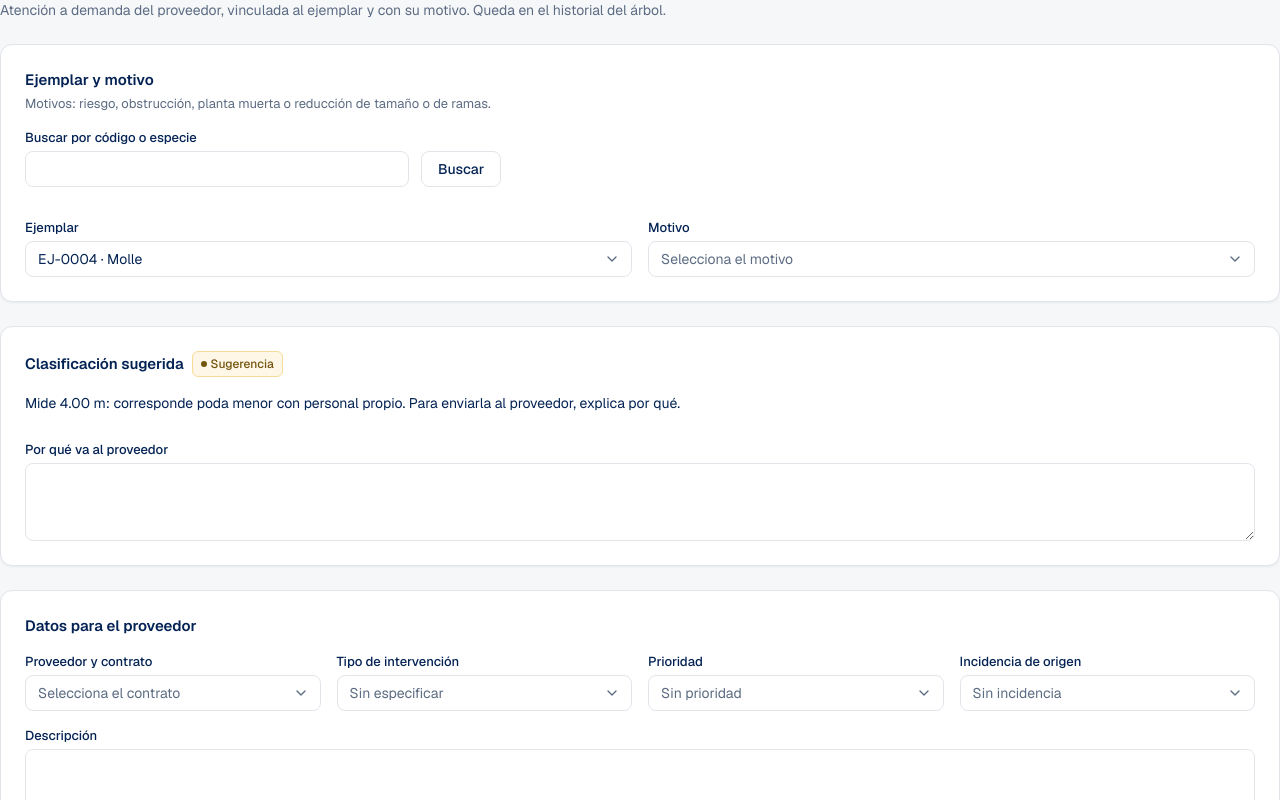
Test case: SolicitarPodaAlturaPage › por debajo de 5 m pide la justificación antes de crear la atención
Expected: the text "corresponde poda menor con personal propio" is shown, [25, 394, 680, 412]
Select "Reducción de tamaño o de ramas" in the dropdown with id "motivo-altura": (952, 259) [648, 241, 1255, 277]
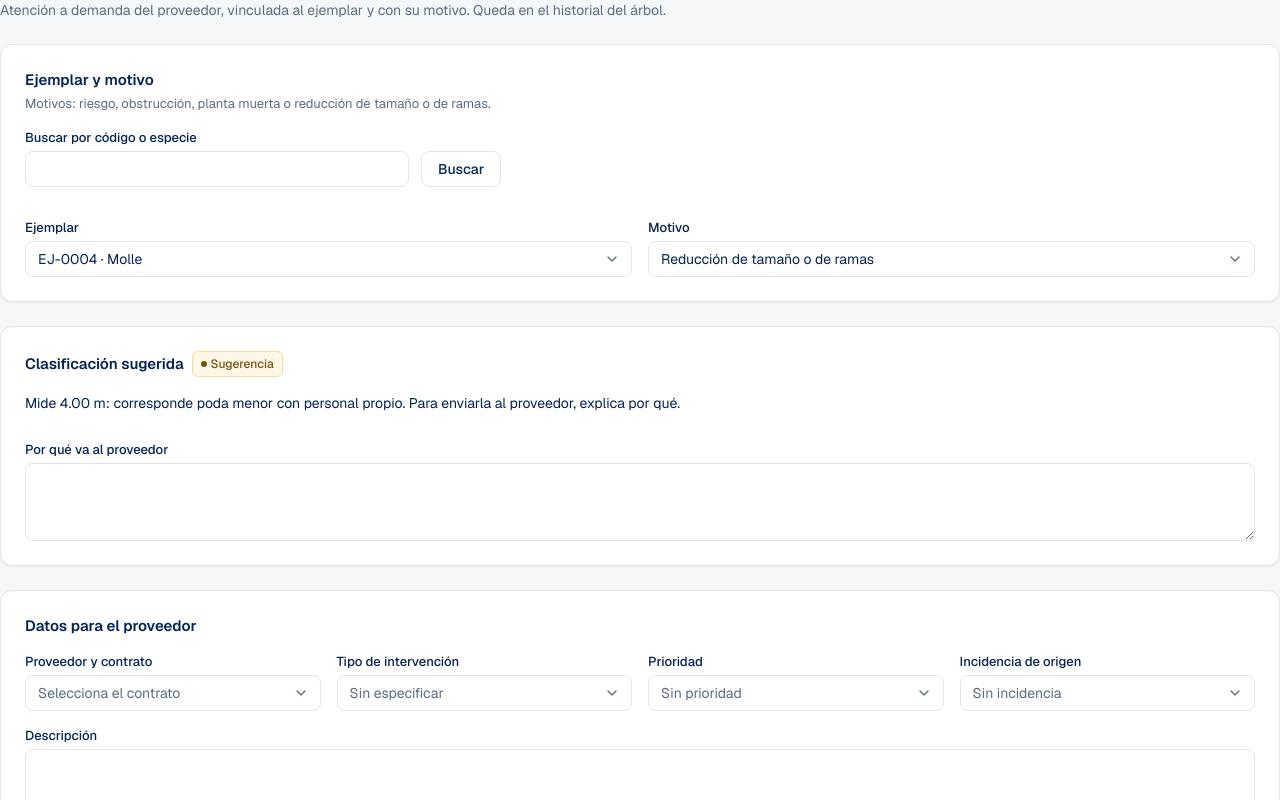
Select "Arbolistas del Sur · Poda de altura · C-2026-01" in the dropdown with id "contrato-altura": (173, 693) [25, 675, 320, 711]
(page scrolled)
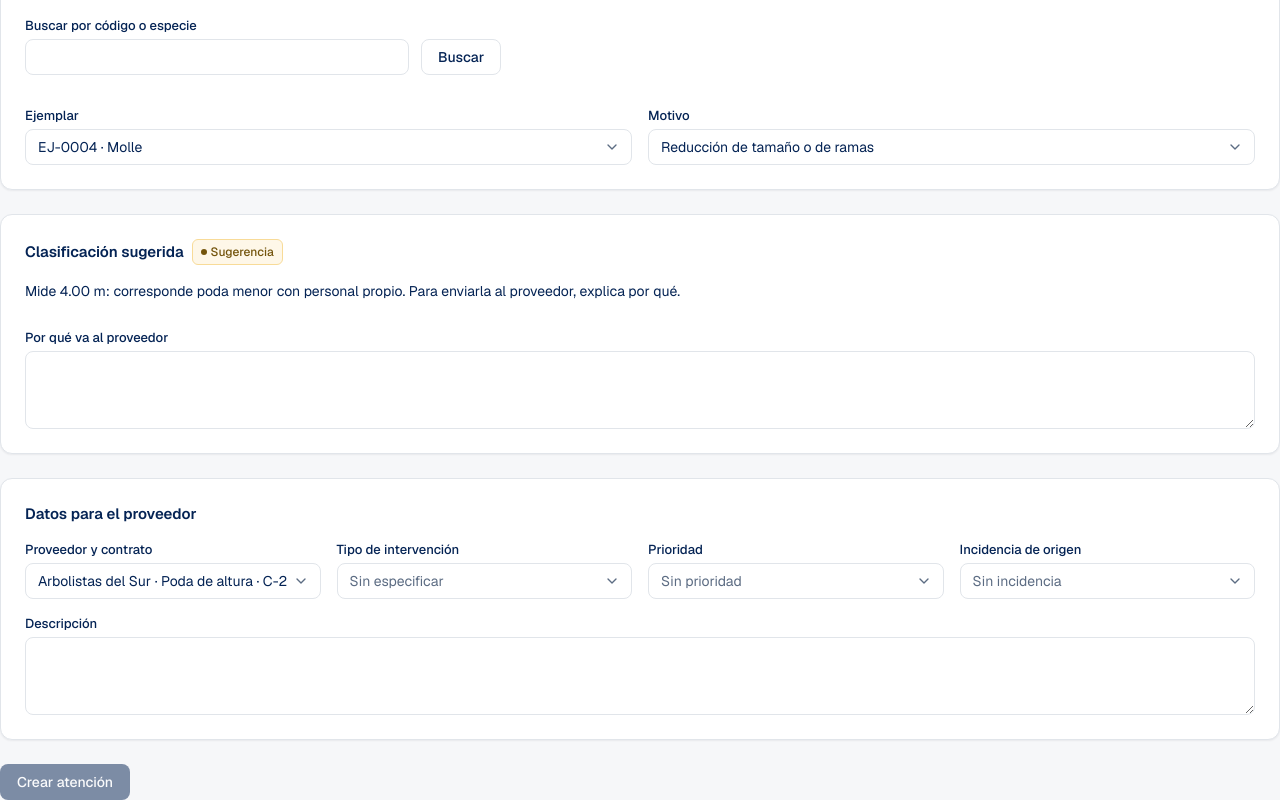
In the text box labelled "Descripción": (640, 676) [25, 637, 1255, 715], type "Copa sobre el tendido"
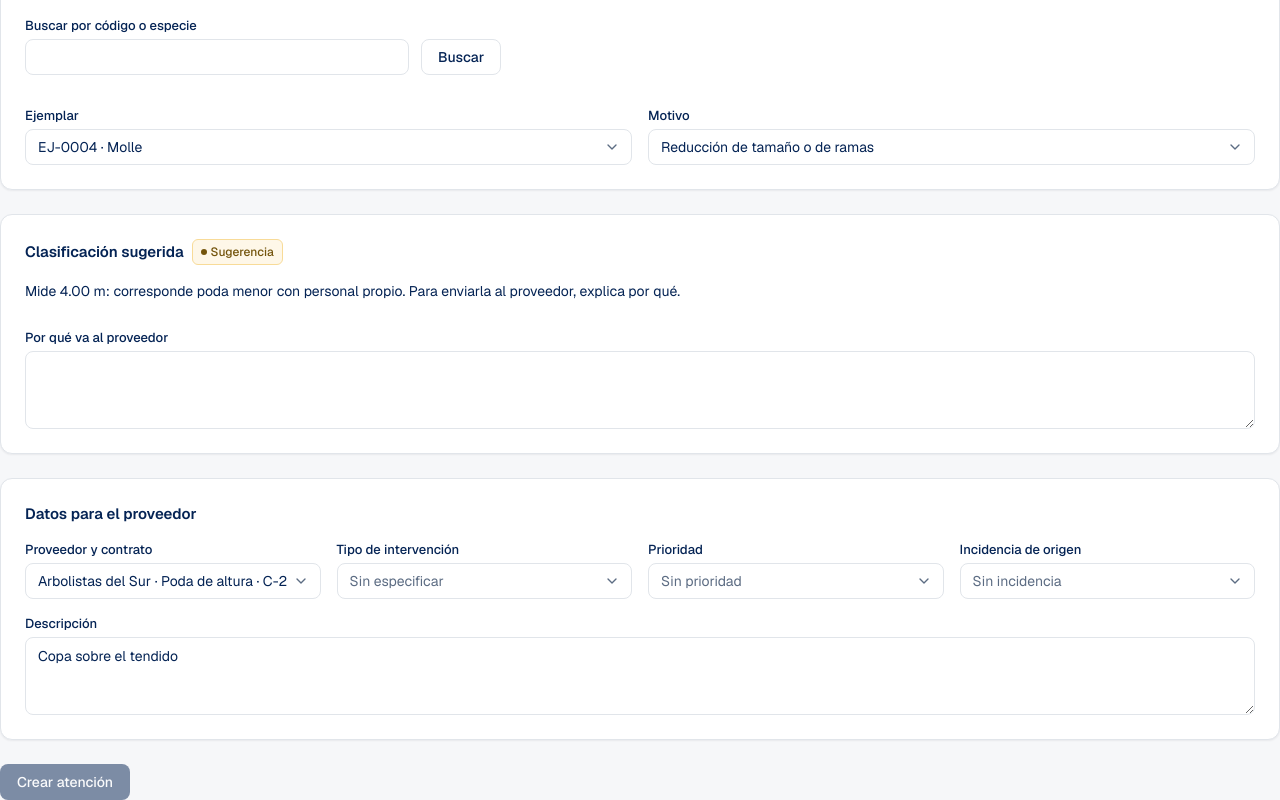
In the text box labelled "Por qué va al proveedor": (640, 390) [25, 351, 1255, 429], type "Toca el tendido eléctrico"
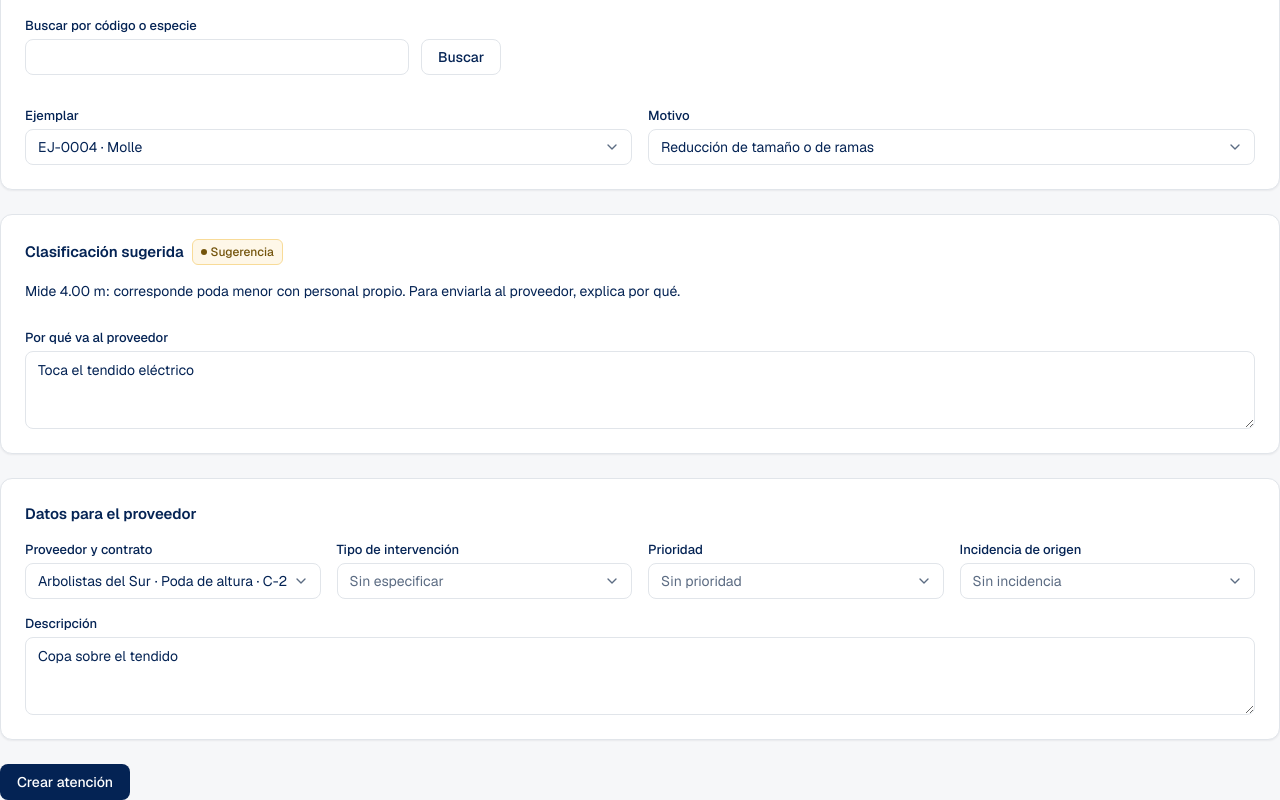
Result: the button "Crear atención" does not have attribute aria-disabled="true" at [0, 764, 130, 799]
